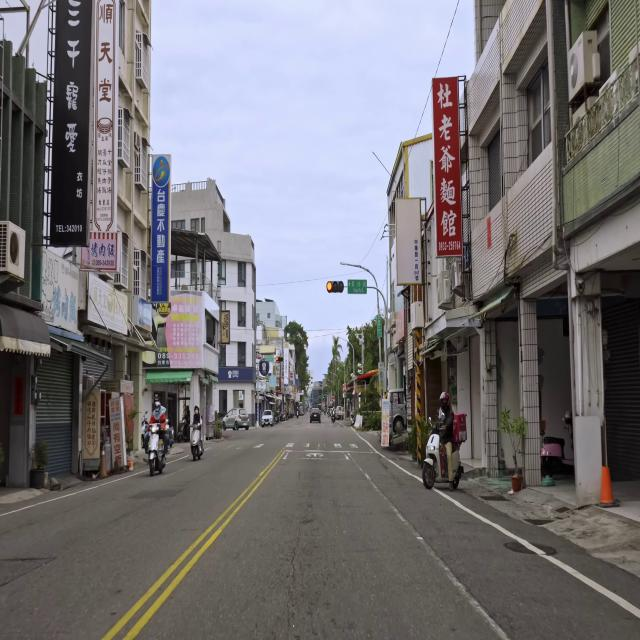red light: (326, 280, 344, 294), (275, 356, 284, 362)
